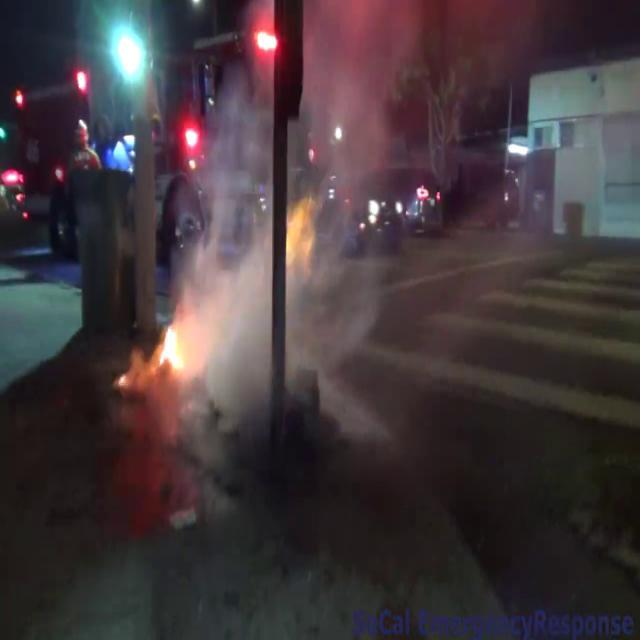Fire: (154, 306, 190, 388)
Smoke: (200, 0, 440, 400)
